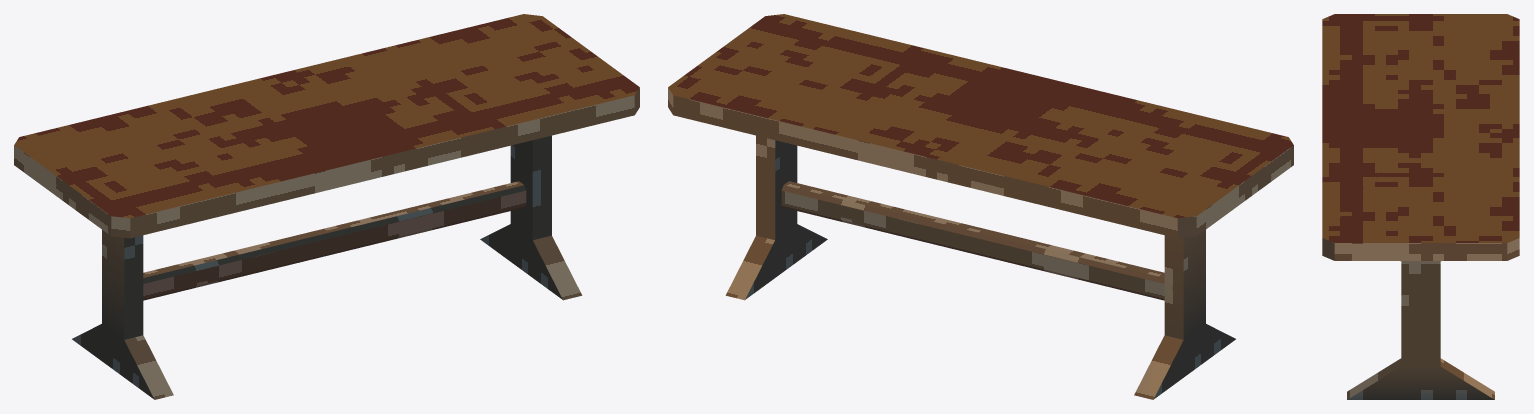
Rendered from wprop.table__long.glb.
3 views of the same model, side by side, from view 1: azimuth 30°, elevation 25°; view 2: azimuth 150°, elevation 25°; view 3: azimuth 270°, elevation 25° (orthographic). The views are drawn at different scales.
Visible parts, largest first — view 1: kit_top, kit_legs, kit_stretcher; view 2: kit_top, kit_legs, kit_stretcher; view 3: kit_top, kit_legs.
Boxes of the visible parts, box(x1,y1,x2,y2) form: kit_top: box(14, 14, 639, 238); kit_legs: box(72, 135, 582, 399); kit_stretcher: box(143, 181, 526, 300); kit_top: box(668, 14, 1293, 238); kit_legs: box(725, 135, 1235, 399); kit_stretcher: box(781, 181, 1164, 300); kit_top: box(1322, 14, 1519, 260); kit_legs: box(1347, 261, 1494, 399).
Size of the model in its own units: 2.2 by 0.8 by 0.8.
2 materials, 2 textured.
